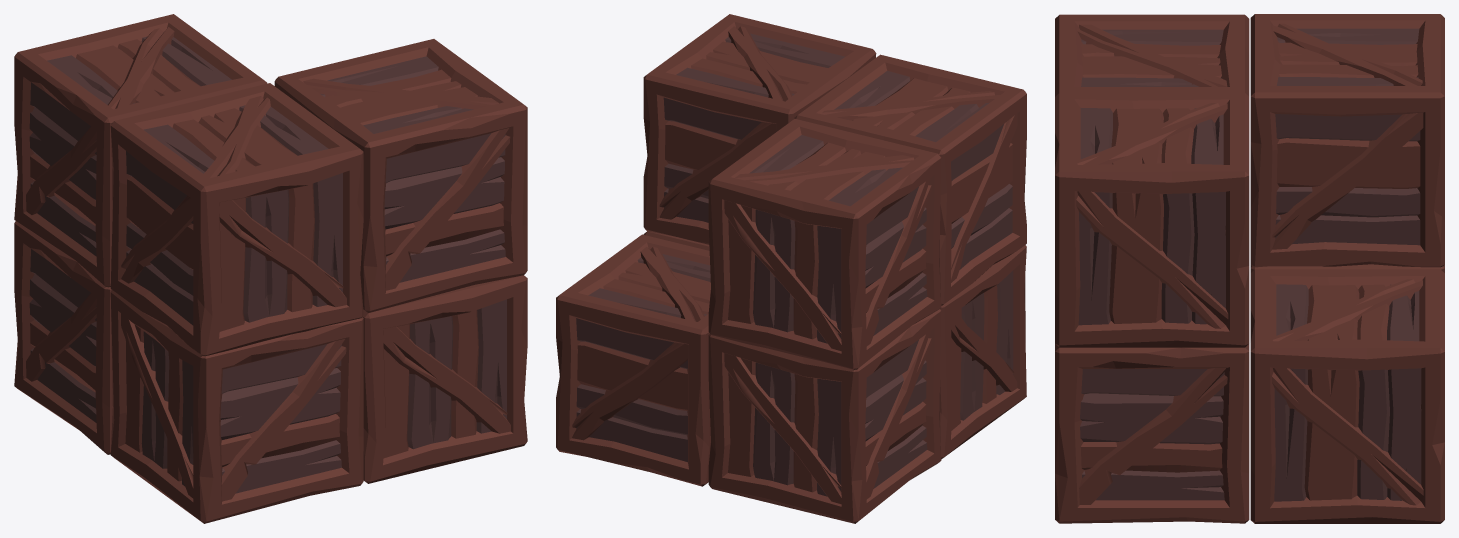
The model's file is SM_Gen_Prop_Crate_Preset_01.glb.
3 views of the same model, side by side, from view 1: azimuth 30°, elevation 25°; view 2: azimuth 150°, elevation 25°; view 3: azimuth 270°, elevation 25° (orthographic). The views are drawn at different scales.
Visible parts, largest first — view 1: SM_Gen_Prop_Crate_Preset_01; view 2: SM_Gen_Prop_Crate_Preset_01; view 3: SM_Gen_Prop_Crate_Preset_01.
Part boxes in pixels (x1=…): SM_Gen_Prop_Crate_Preset_01: x1=14, y1=14, x2=527, y2=523; SM_Gen_Prop_Crate_Preset_01: x1=556, y1=14, x2=1026, y2=523; SM_Gen_Prop_Crate_Preset_01: x1=1055, y1=14, x2=1444, y2=523.
Bounding box in the file's own units: 1.73 × 1.72 × 1.72.
1 material, 1 textured.
